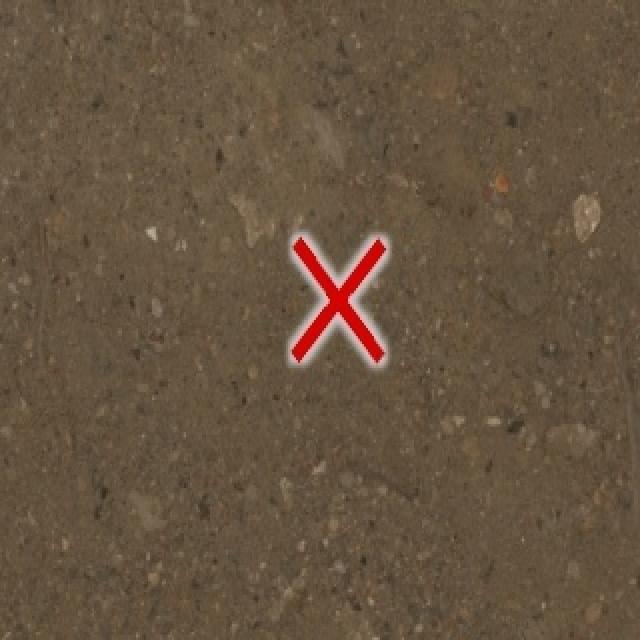x_marker: (291, 236, 385, 361)
